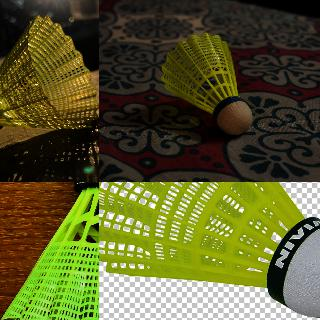shuttlecock: (99, 182, 319, 318), (1, 182, 98, 319), (0, 13, 98, 137), (160, 32, 252, 136)
